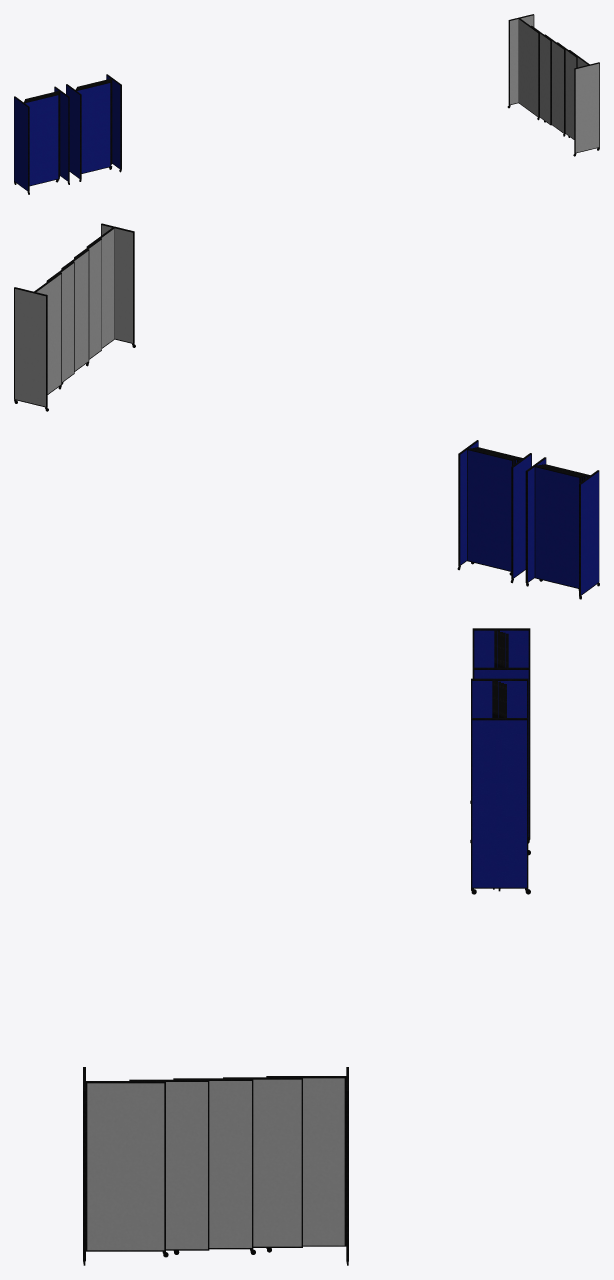
Rendered from Shields.fbx.
3 views of the same model, one above another, from view 1: azimuth 30°, elevation 25°; view 2: azimuth 150°, elevation 25°; view 3: azimuth 270°, elevation 25° (orthographic). The views are drawn at different scales.
Parts seen in each view (by area): view 1: pCube19 (×2), pCube22 (×3), pCube21, blueshield1, pCube17, WhiteShield, pCube18, pCube20, blueshield2; view 2: pCube19 (×2), pCube21 (×2), pCube22 (×3), WhiteShield, blueshield1, pCube17, pCube18, pCube20, blueshield2; view 3: pCube21, blueshield2, pCube18, pCube17, pCube20, pCube19, pCube22 (×2), blueshield1.
Part boxes in pixels (x1,y1,x2,y2): pCube19 (×2): (24,18,539,186); pCube22 (×3): (54,62,599,181); pCube21: (76,81,110,173); blueshield1: (14,96,29,191); pCube17: (544,34,565,133); WhiteShield: (508,14,534,105); pCube18: (531,25,551,125); pCube20: (557,42,577,139); blueshield2: (106,74,121,169); pCube19 (×2): (34,272,513,571); pCube21 (×2): (86,227,581,588); pCube22 (×3): (101,223,546,583); WhiteShield: (14,287,47,407); blueshield1: (579,470,599,596); pCube17: (61,249,89,371); pCube18: (46,261,74,382); pCube20: (74,238,101,359); blueshield2: (458,440,478,566); pCube21: (86,1081,165,1251); blueshield2: (471,718,528,888); pCube18: (223,1077,302,1247); pCube17: (173,1078,253,1249); pCube20: (129,1079,209,1250); pCube19: (266,1076,346,1246); pCube22 (×2): (471,667,530,838); blueshield1: (472,628,530,667).
Bounding box in the file's own units: 1266 × 224 × 518.
Materials: 1 (1 with a texture image).
